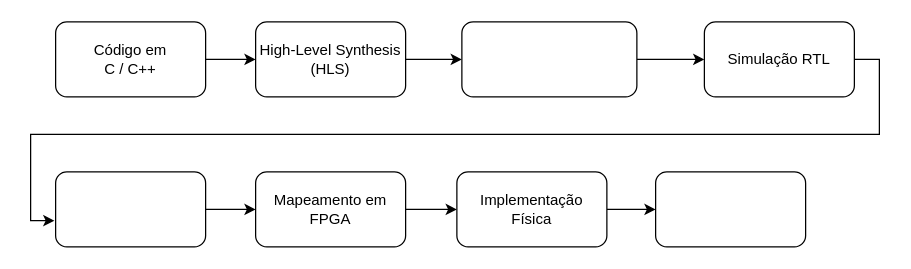
Image size: 911x269. Some labels were removed from this diagram. Each missing label, with the centre of its shape:
Código em RTL (Register Transfer Level): (x=549, y=59)
Síntese Lógica: (x=130, y=209)
Teste e Validação: (x=730, y=209)
